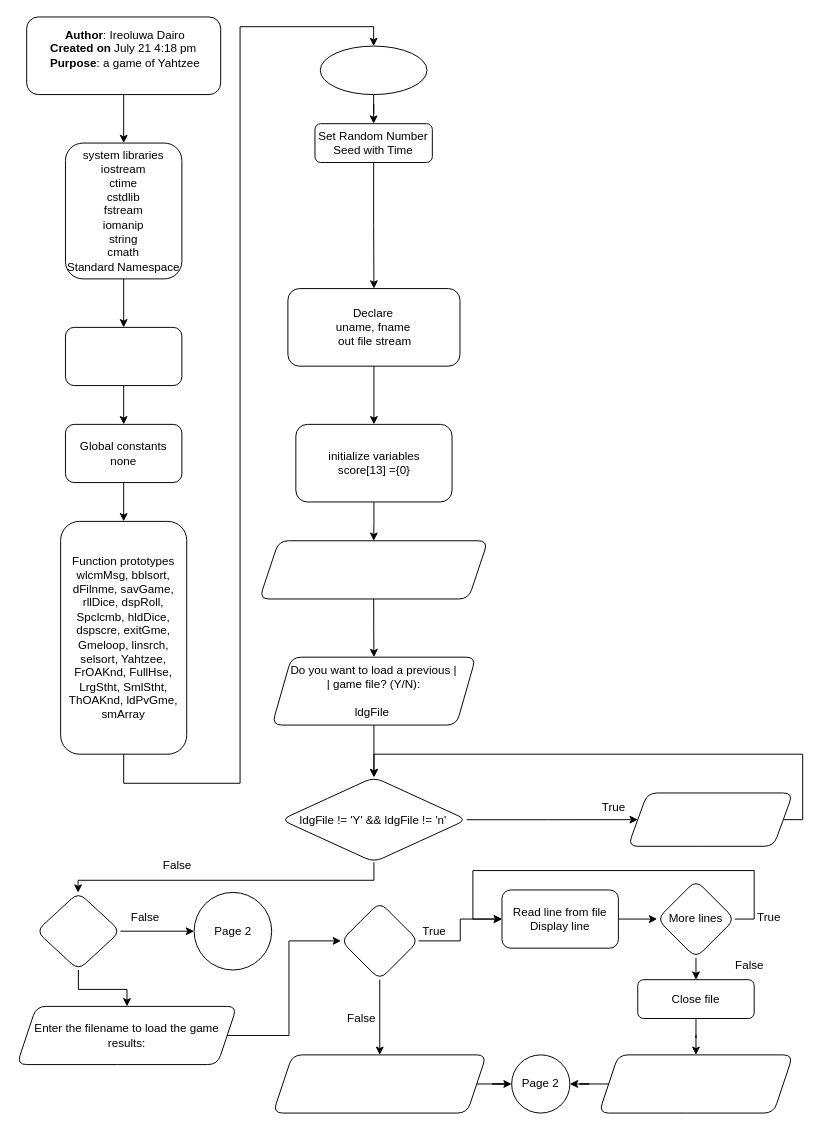
Image size: 827x1130. Some labels were removed from this diagram. The shapes that lost their labels are listed below. From the top down, each one's box as (x1, y1, x2, y2) in pixels, then its label:
(319, 45, 427, 95): Main
(65, 326, 182, 386): user libraries none
(259, 540, 488, 599): Welcome to Yahtzee! Enter Username: Output personalized welcome message
(627, 792, 793, 846): Invalid Input. Input 'Y' or 'N':
(35, 891, 120, 970): ldgFile == 'Y'
(340, 901, 419, 980): is file open
(272, 1054, 486, 1113): File not found. Starting a new game.
(598, 1054, 793, 1113): Try to beat your previous score Starting New Game!
